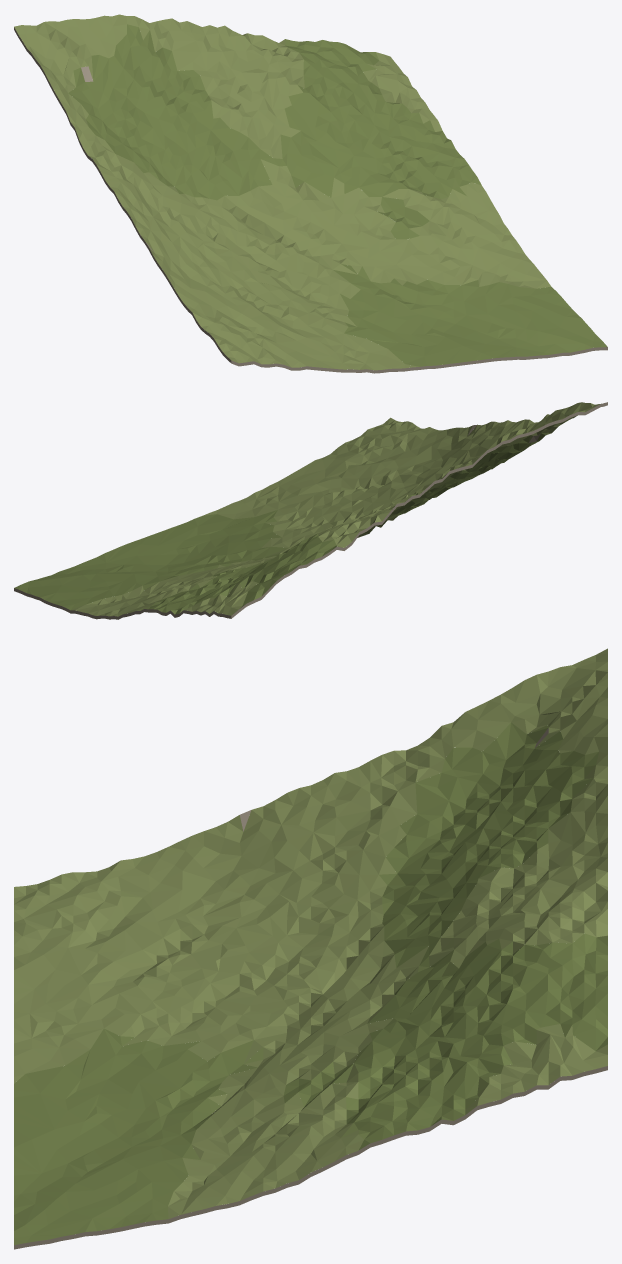
File: parca_+7_-7-uzak.glb
3 views of the same model, one above another, from view 1: azimuth 30°, elevation 25°; view 2: azimuth 210°, elevation 25°; view 3: azimuth 270°, elevation 25° (orthographic). The views are drawn at different scales.
Parts seen in each view (by area): view 1: parca_+7_-7_arazi_uzak; view 2: parca_+7_-7_arazi_uzak; view 3: parca_+7_-7_arazi_uzak.
Boxes of the visible parts, x1,y1,x2,y2 form: parca_+7_-7_arazi_uzak: (14, 14, 607, 373); parca_+7_-7_arazi_uzak: (14, 402, 607, 619); parca_+7_-7_arazi_uzak: (14, 648, 607, 1249).
Size of the model in its own units: 1000 by 650 by 1000.
